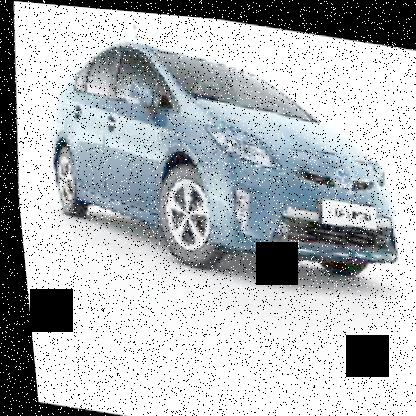not_emergency: (24, 15, 415, 291)
